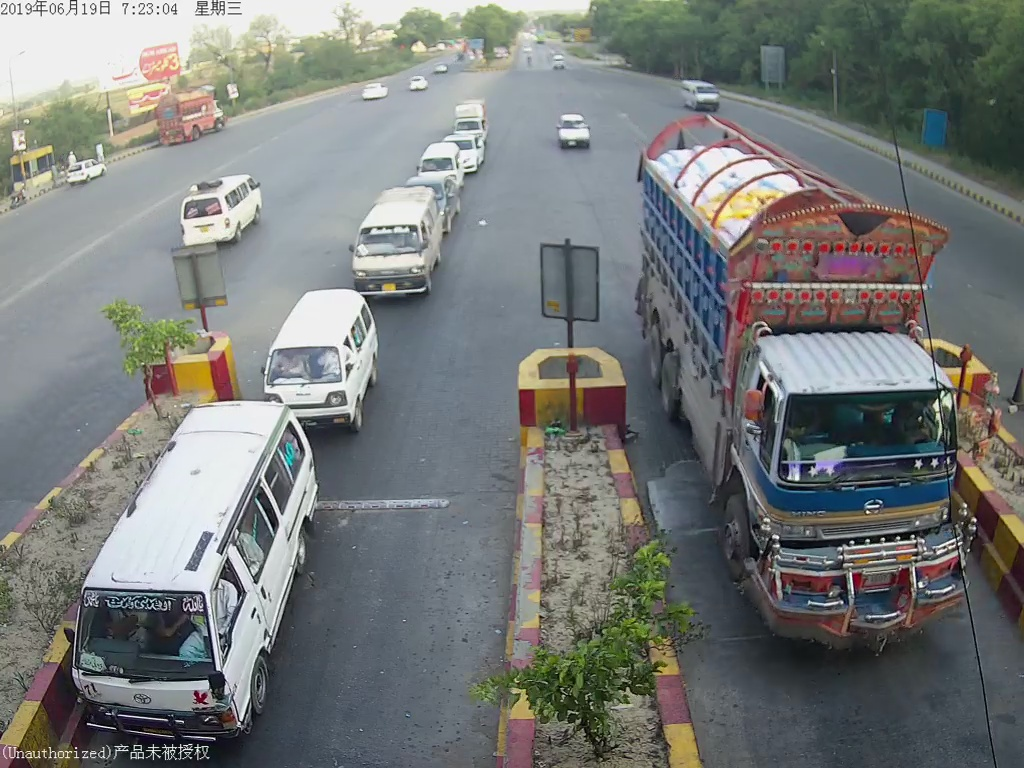Cat-1: (252, 297, 384, 393)
Cat-2: (45, 398, 338, 747), (346, 198, 448, 290)
Cat-4: (633, 126, 988, 666)
